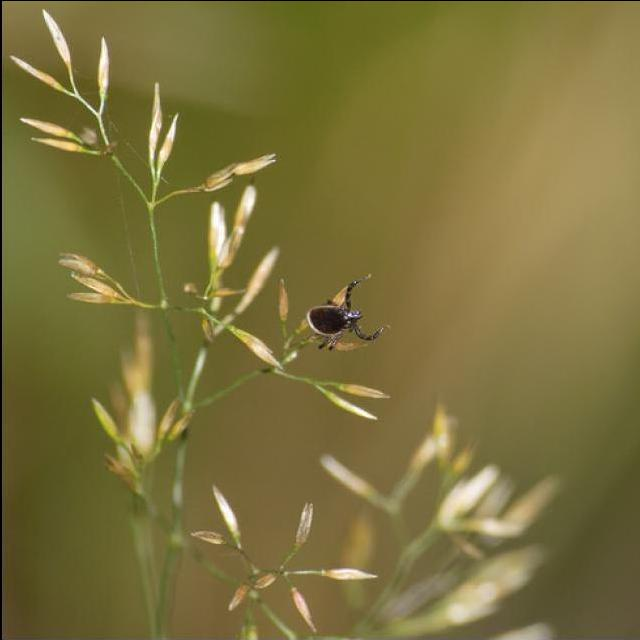Ixodes Ricinus-M: (304, 274, 388, 351)
